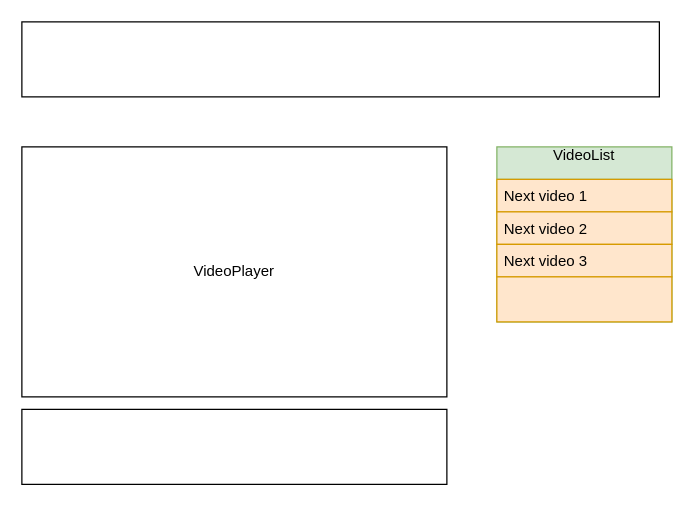
This 694x506 diagram has some shape labels left out. Each missing label, with the box of its shape:
Next video 4: (496, 276, 672, 322)
SearchBar: (21, 21, 659, 97)
VideoDescription: (21, 408, 447, 484)
